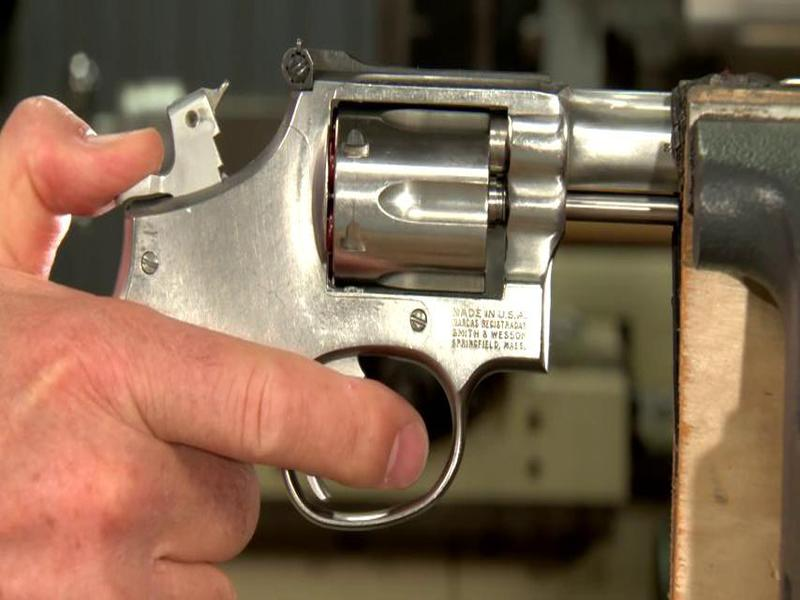Revolver: (101, 36, 660, 539)
